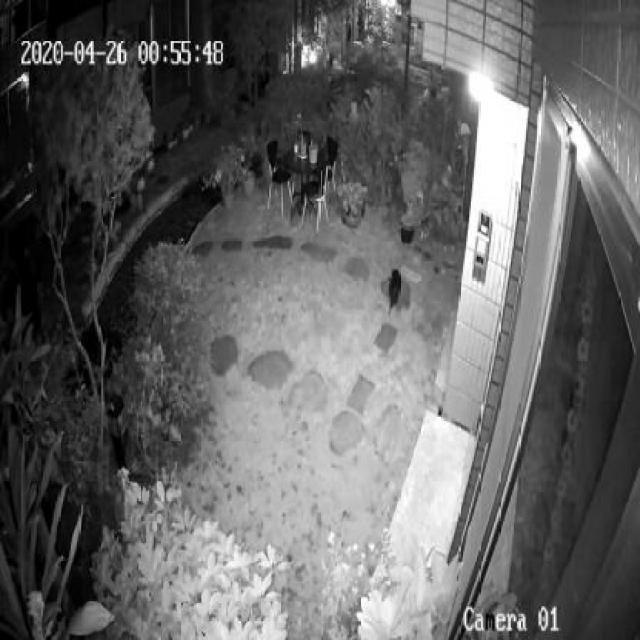animals: (383, 265, 405, 320)
